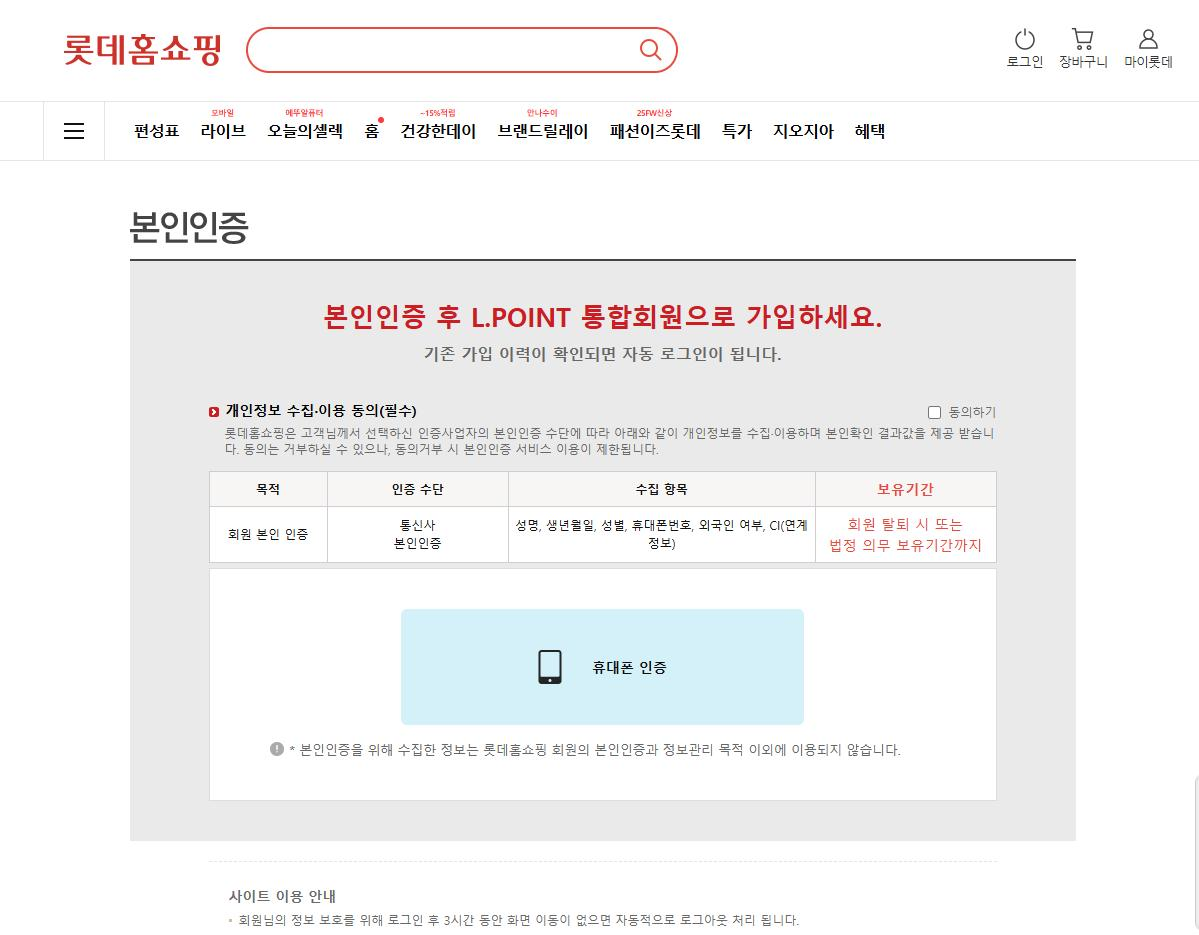button: (401, 610, 805, 724), (487, 101, 594, 159), (605, 100, 705, 156), (264, 97, 348, 157), (399, 100, 477, 157), (41, 97, 109, 161), (1123, 16, 1182, 86), (191, 97, 258, 154), (769, 105, 839, 155), (993, 23, 1053, 80), (1056, 20, 1111, 79), (715, 102, 758, 156), (353, 104, 393, 158), (849, 106, 896, 151), (127, 112, 180, 147)
checkbox: (916, 389, 1000, 424)
input_field: (237, 20, 679, 86)
